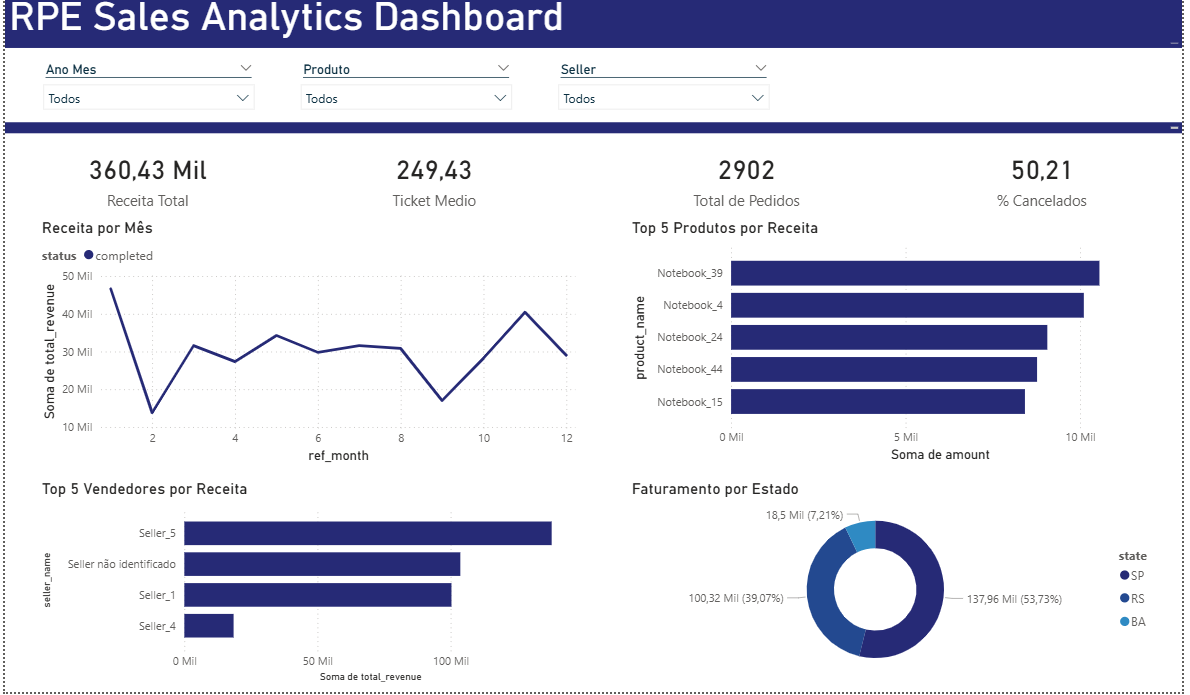

Layout of this report page (visuals, bound fields, positions):
{"tool":"powerbi","page":{"name":"Sales geral","canvas":[1280,800],"ordinal":0},"visuals":[{"type":"textbox","title":"RPE Sales Analytics Dashboard","box":[0,41.2,1280.3,59],"z":0},{"type":"card","title":"Receita total","fields":{"Values":["Sum(gold_fact_sales.amount)"]},"box":[5.5,196.1,300,90.6],"z":1000},{"type":"card","fields":{"Values":["Avg(gold_fact_sales.amount)"]},"box":[317,196.1,300.5,90.6],"z":2000},{"type":"card","fields":{"Values":["CountNonNull(gold_fact_sales.order_id)"]},"box":[655.9,196.1,300,90.6],"z":3000},{"type":"card","fields":{"Values":["bronze_sales_raw.% Cancelados"]},"box":[977,196.1,300.5,90.6],"z":4000},{"type":"lineChart","title":"Receita por Mês","fields":{"Category":["gold_agg_monthly_revenue.ref_month"],"Y":["Sum(gold_agg_monthly_revenue.total_revenue)"],"Series":["gold_fact_sales.status"]},"box":[35.7,285.4,590.1,270.3],"z":5000},{"type":"clusteredBarChart","title":"Top 5 Produtos por Receita","fields":{"Category":["gold_top5_products_qty.product_name"],"Y":["Sum(gold_fact_sales.amount)"]},"box":[676.5,285.4,590,270.3],"z":6000},{"type":"barChart","title":"Top 5 Vendedores por Receita","fields":{"Category":["gold_top5_sellers.seller_name"],"Y":["Sum(gold_top5_sellers.total_revenue)"]},"box":[35,569.5,590,225],"z":7000},{"type":"donutChart","title":"Faturamento por Estado","fields":{"Category":["gold_revenue_by_state.state"],"Y":["Sum(gold_revenue_by_state.total_revenue)"]},"box":[676.5,569.5,590.1,219.6],"z":8000},{"type":"slicer","fields":{"Values":["gold_fact_sales.year_month"]},"box":[31.6,109.8,249.7,61.7],"z":9000},{"type":"slicer","fields":{"Values":["gold_dim_product.product_name"]},"box":[311.5,109.8,249.7,61.7],"z":10000},{"type":"slicer","fields":{"Values":["gold_dim_seller.seller_name"]},"box":[591.4,109.8,249.7,61.7],"z":11000},{"type":"textbox","box":[0,181.1,1280.3,12.3],"z":12000}]}

Visuals, with their boxes on the page's 1280x800 design canvas (x1, y1, x2, y2). These are canvas units, not pixel positions in the 1190x695 screenshot, which may show the page scaled, cropped or inside an application window:
"RPE Sales Analytics Dashboard" textbox: box=[0, 41, 1280, 100]
"Receita total" card: box=[6, 196, 306, 287]
card - Avg(gold_fact_sales.amount): box=[317, 196, 618, 287]
card - CountNonNull(gold_fact_sales.order_id): box=[656, 196, 956, 287]
card - bronze_sales_raw.% Cancelados: box=[977, 196, 1278, 287]
"Receita por Mês" lineChart: box=[36, 285, 626, 556]
"Top 5 Produtos por Receita" clusteredBarChart: box=[676, 285, 1266, 556]
"Top 5 Vendedores por Receita" barChart: box=[35, 570, 625, 794]
"Faturamento por Estado" donutChart: box=[676, 570, 1267, 789]
slicer - gold_fact_sales.year_month: box=[32, 110, 281, 172]
slicer - gold_dim_product.product_name: box=[312, 110, 561, 172]
slicer - gold_dim_seller.seller_name: box=[591, 110, 841, 172]
textbox: box=[0, 181, 1280, 193]
